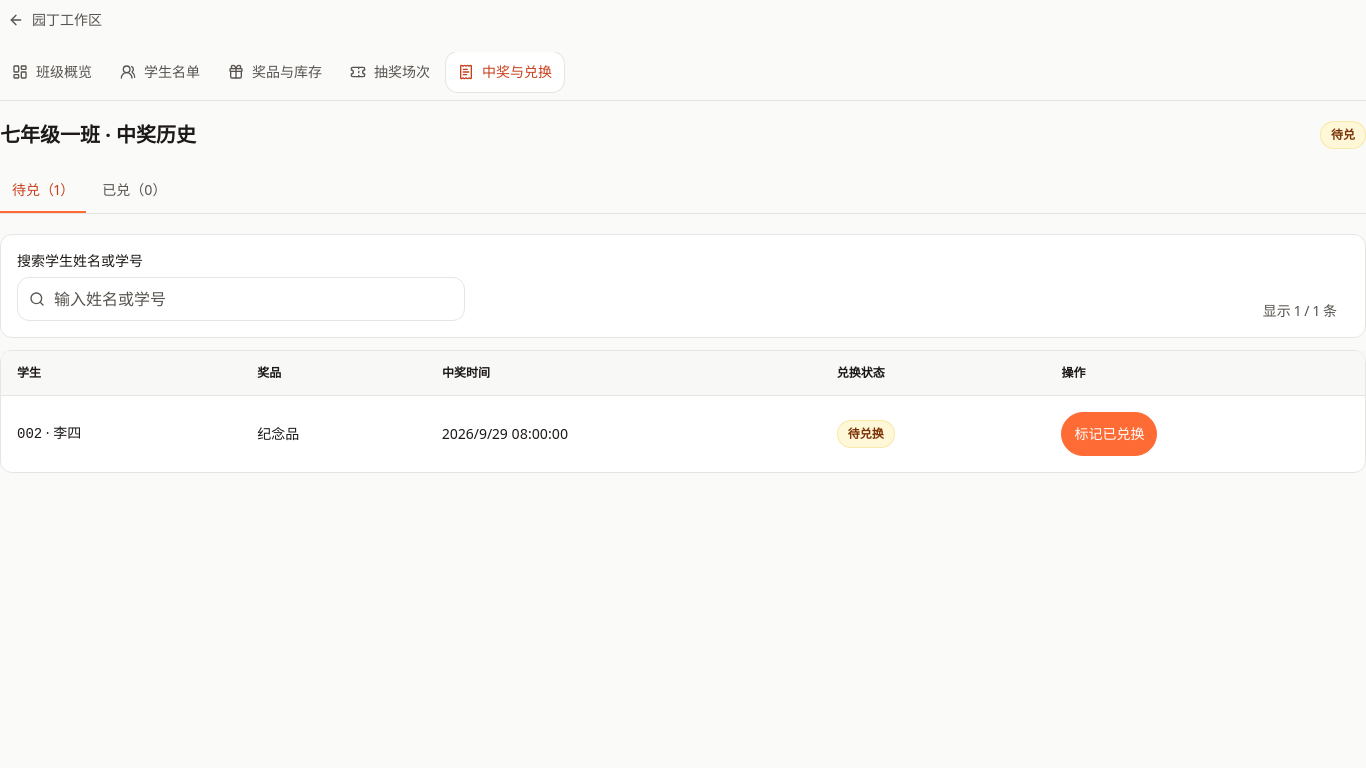
Test case: pending redemption keeps its record key hidden until confirmation
Check: the row "002 · 李四 纪念品 2026/9/29 08:00:00 待兑换 标记已兑换" does not show "private-win-key", box [1, 396, 1365, 472]
Click the button "标记已兑换" at (1110, 434), box [1062, 412, 1158, 456]
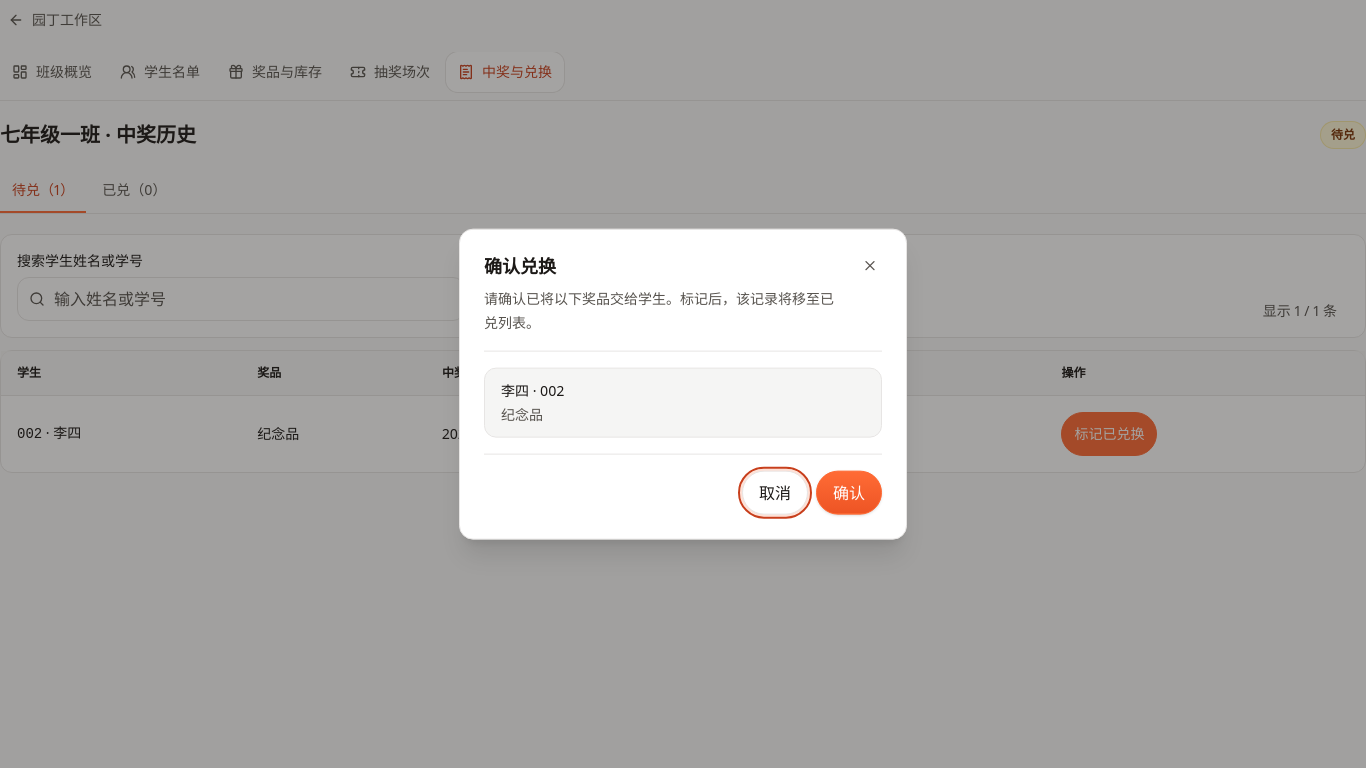
Check: the form named "winId" holds "private-win-key", box [484, 453, 882, 514]
